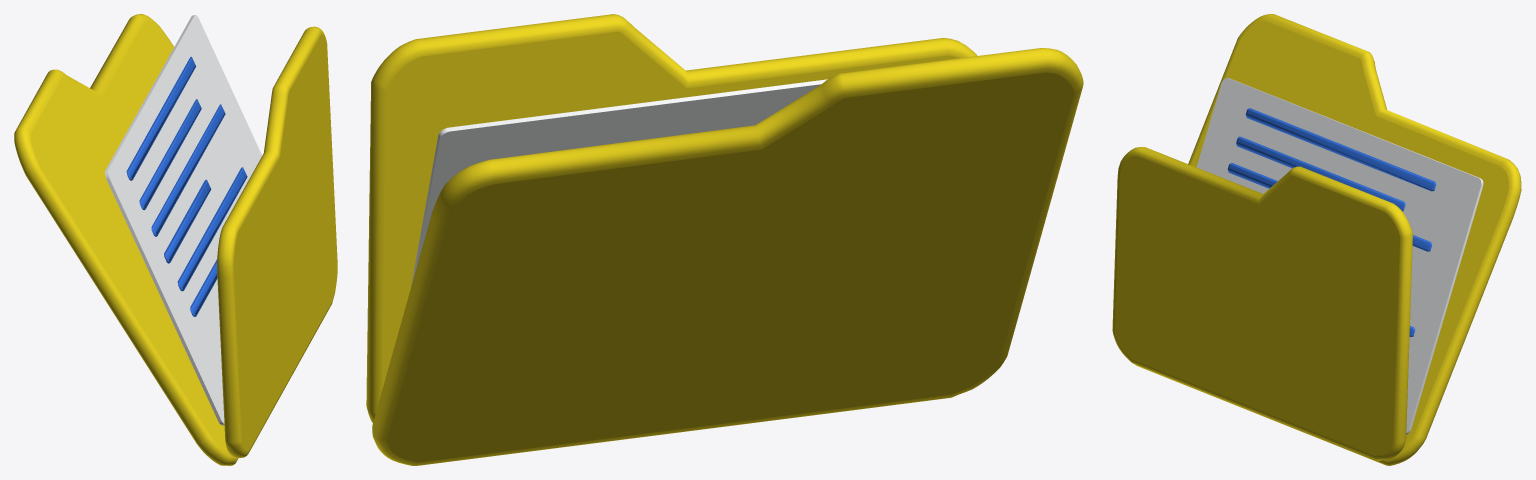
3 views of the same model, side by side, from view 1: azimuth 30°, elevation 25°; view 2: azimuth 150°, elevation 25°; view 3: azimuth 270°, elevation 25° (orthographic). The views are drawn at different scales.
Parts seen in each view (by area): view 1: BezierCurve, BezierCurve001, BezierCurve002, Plane002, Plane004, Plane, Plane001, Plane005, Plane003; view 2: BezierCurve001, BezierCurve, BezierCurve002; view 3: BezierCurve, BezierCurve001, BezierCurve002, Plane, Plane001, Plane002.
Part boxes in pixels (x1,y1,x2,y2): BezierCurve: [217, 26, 337, 457]; BezierCurve001: [14, 14, 238, 465]; BezierCurve002: [105, 15, 262, 425]; Plane002: [151, 104, 225, 236]; Plane004: [177, 167, 247, 291]; Plane: [126, 56, 195, 180]; Plane001: [139, 99, 201, 210]; Plane005: [164, 179, 211, 263]; Plane003: [190, 259, 217, 316]; BezierCurve001: [372, 48, 1083, 465]; BezierCurve: [366, 14, 977, 422]; BezierCurve002: [411, 79, 827, 285]; BezierCurve: [1112, 147, 1412, 460]; BezierCurve001: [1135, 14, 1521, 465]; BezierCurve002: [1196, 78, 1483, 434]; Plane: [1245, 108, 1436, 191]; Plane001: [1236, 136, 1405, 211]; Plane002: [1227, 163, 1432, 251].
Size of the model in its own units: 4.53 by 3.48 by 4.42.
